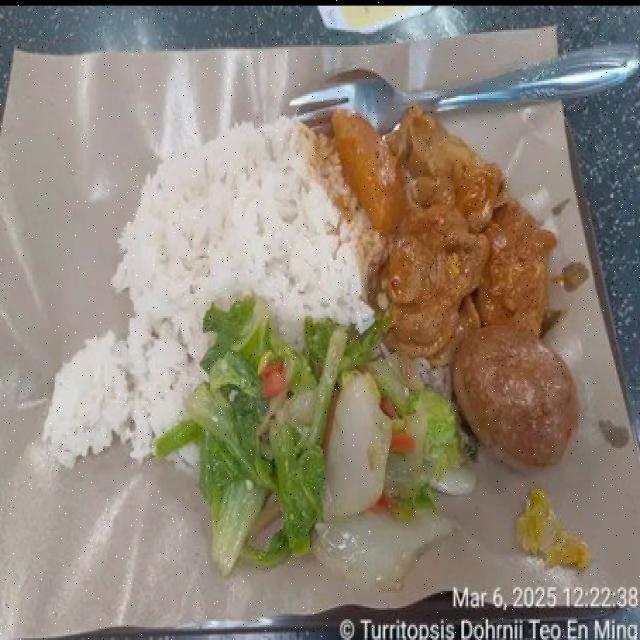Chicken: (381, 105, 555, 361)
Egg: (453, 328, 577, 465)
Green veg: (155, 299, 472, 587)
Potato: (333, 111, 402, 233)
Rice: (42, 117, 382, 465)
